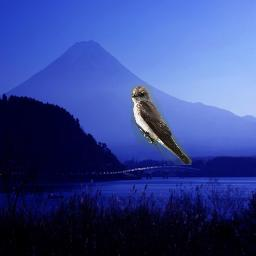Swallow: (131, 85, 192, 165)
